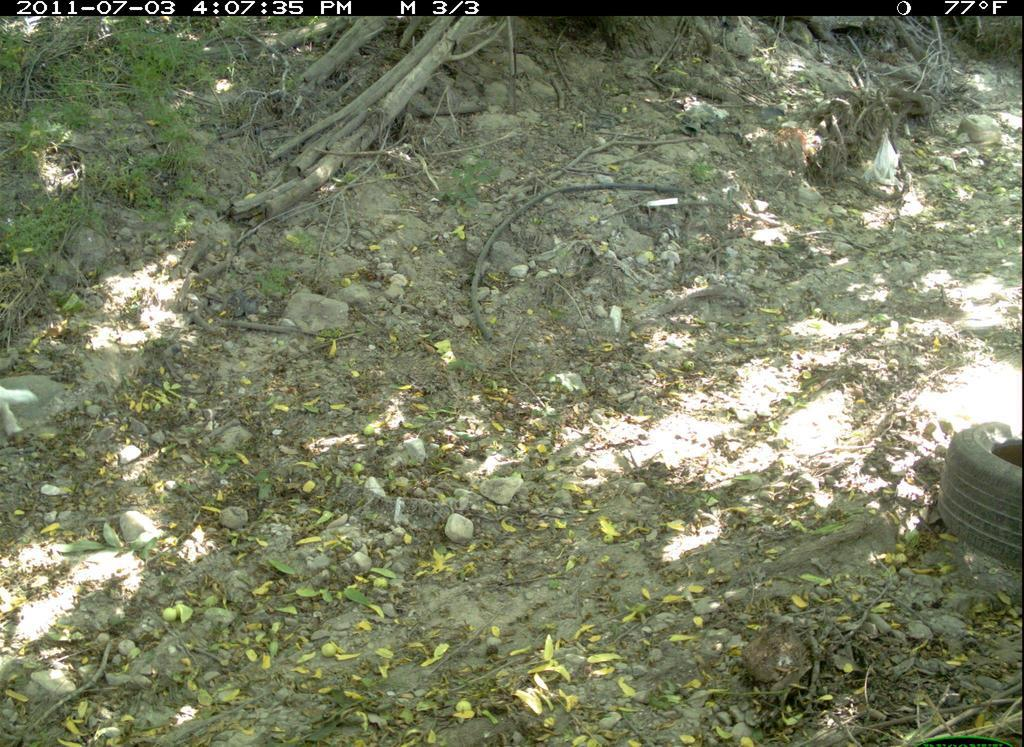dog: (1, 378, 42, 445)
